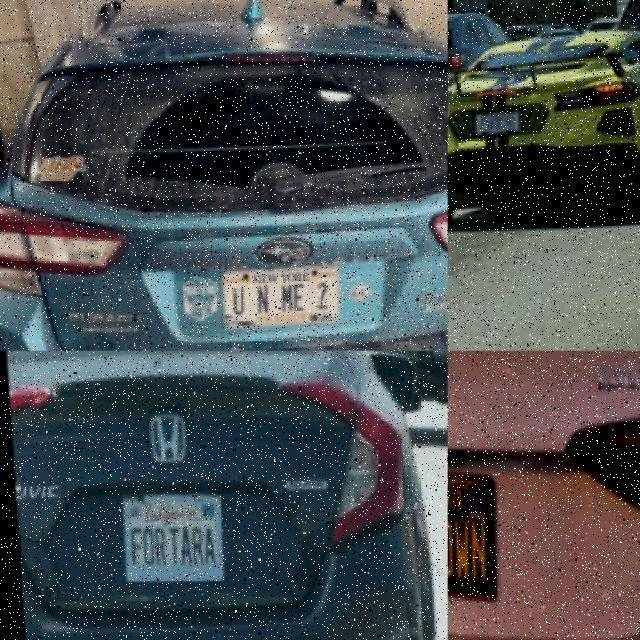LicensePlate: (118, 489, 223, 592), (448, 466, 514, 608), (213, 271, 332, 335), (468, 114, 514, 142), (430, 351, 448, 367)
